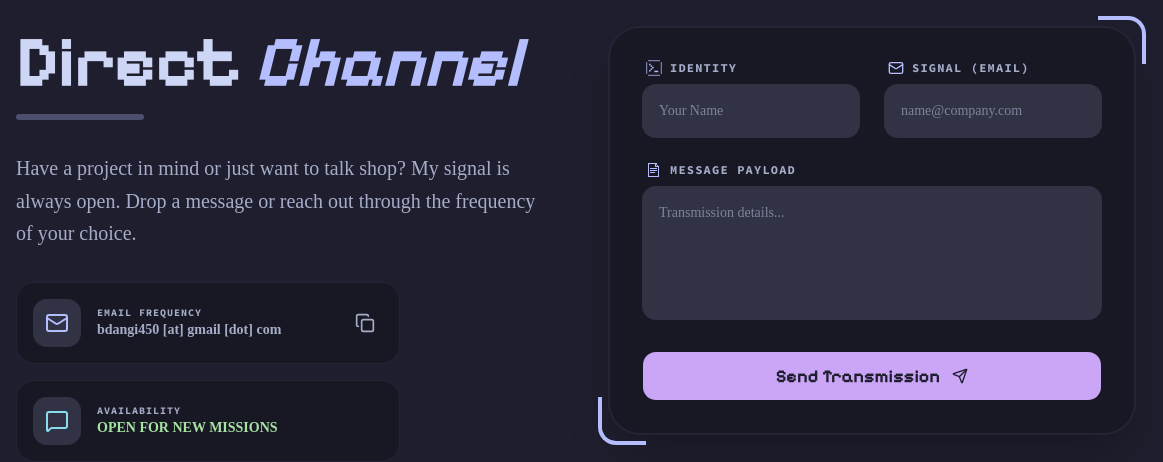
Scenario: ContactSection Component › successfully submits the form
The image size is (1163, 462).
In the field labelled "Identity": (751, 111) [642,84,860,138], type "John Doe"
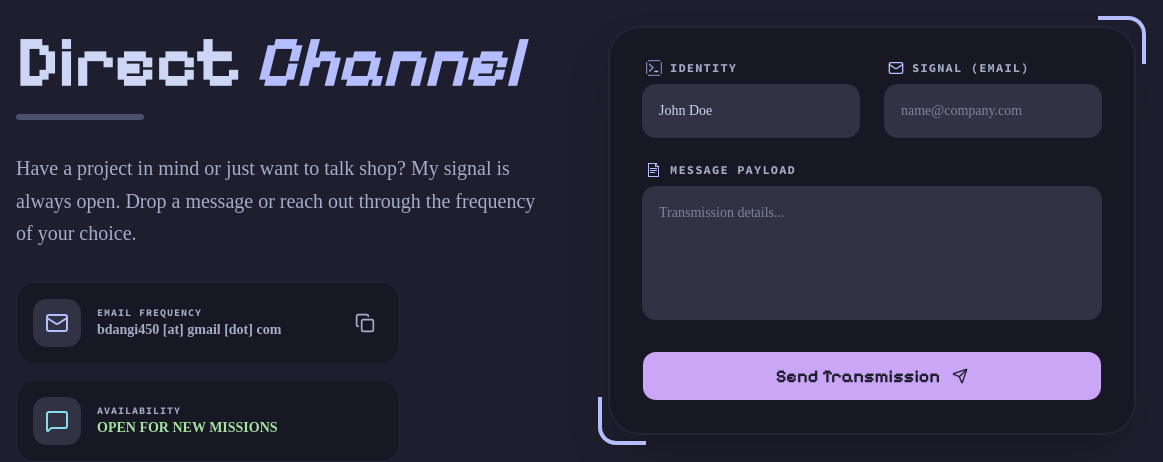
In the field labelled "Signal (Email)": (993, 111) [884,84,1102,138], type "john@example.com"
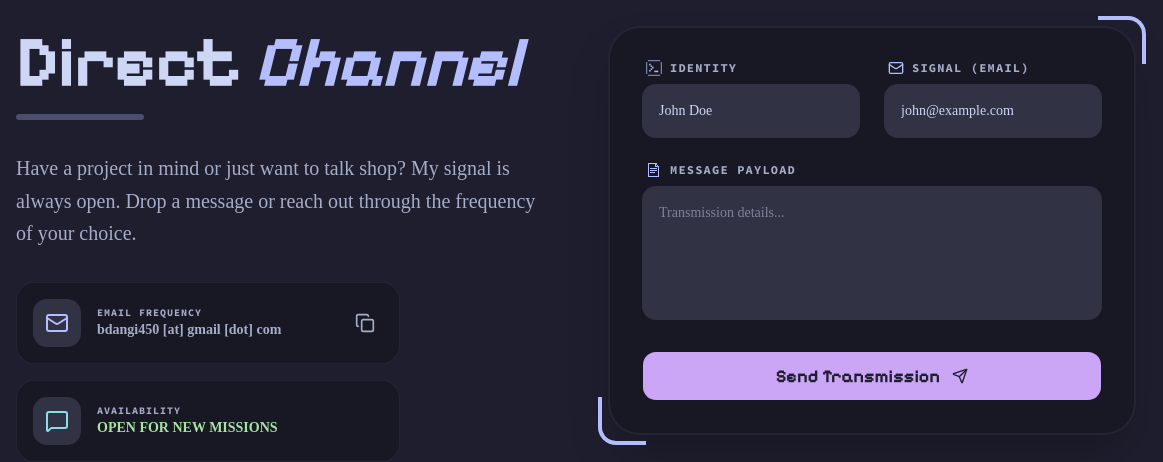
In the text box labelled "Message Payload": (872, 253) [642,186,1102,320], type "This is a long enough message."
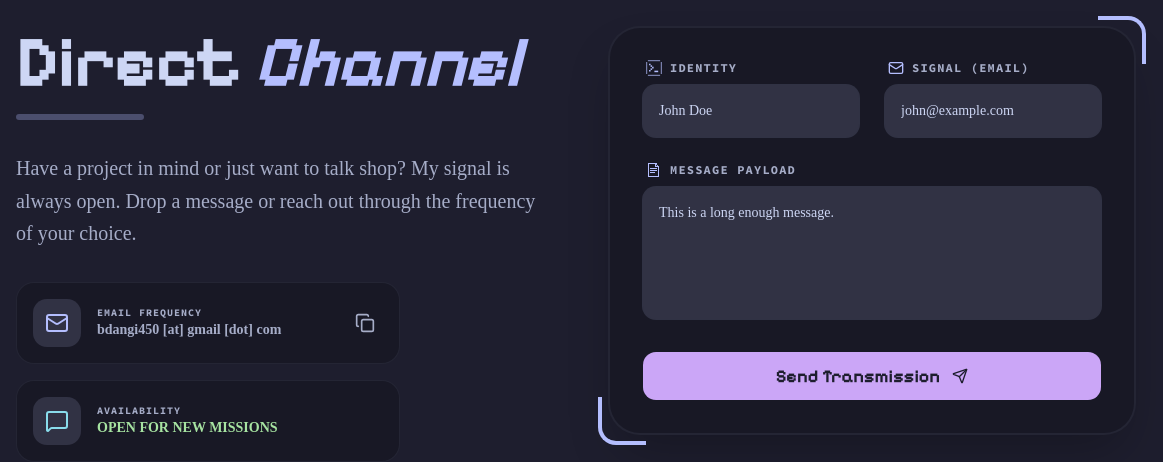
Click the button "Send Transmission": (872, 376) [642,351,1102,401]
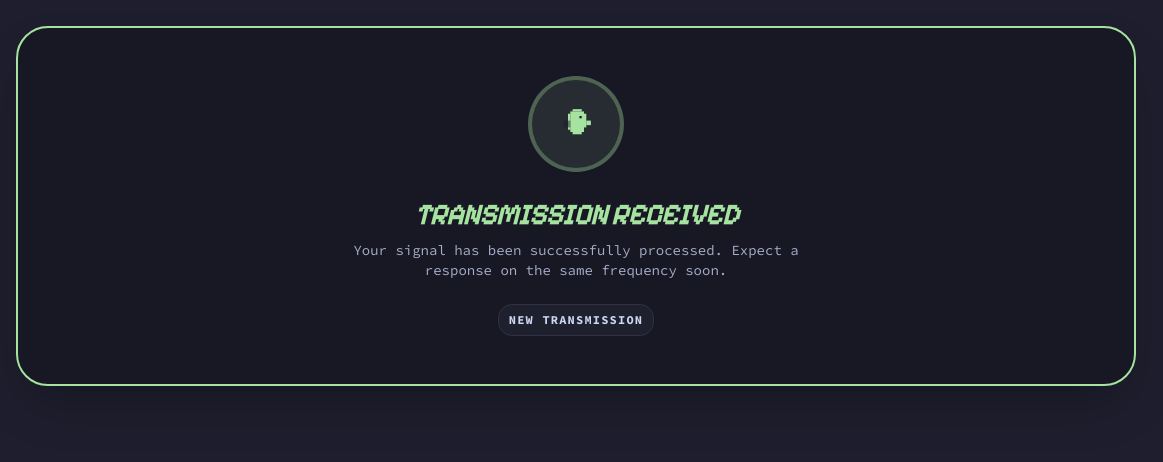
Now the heading "Transmission Received" is shown, box [414,196,738,232]
